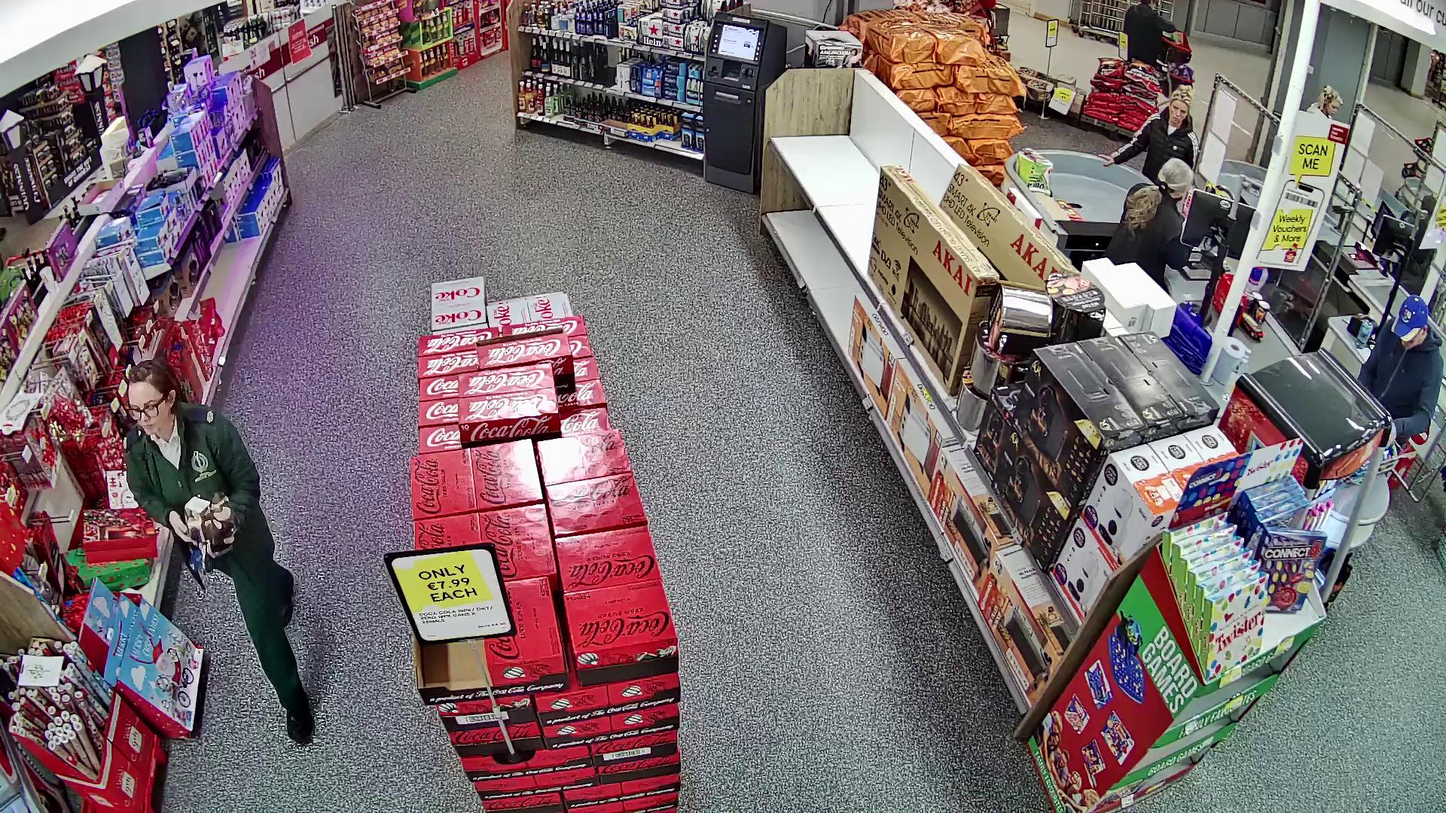carrying-item: (171, 494, 239, 588)
occupied-checkout-counter: (1059, 158, 1258, 315)
person: (124, 356, 313, 744)
person-with-carrying-item: (123, 356, 314, 742)
